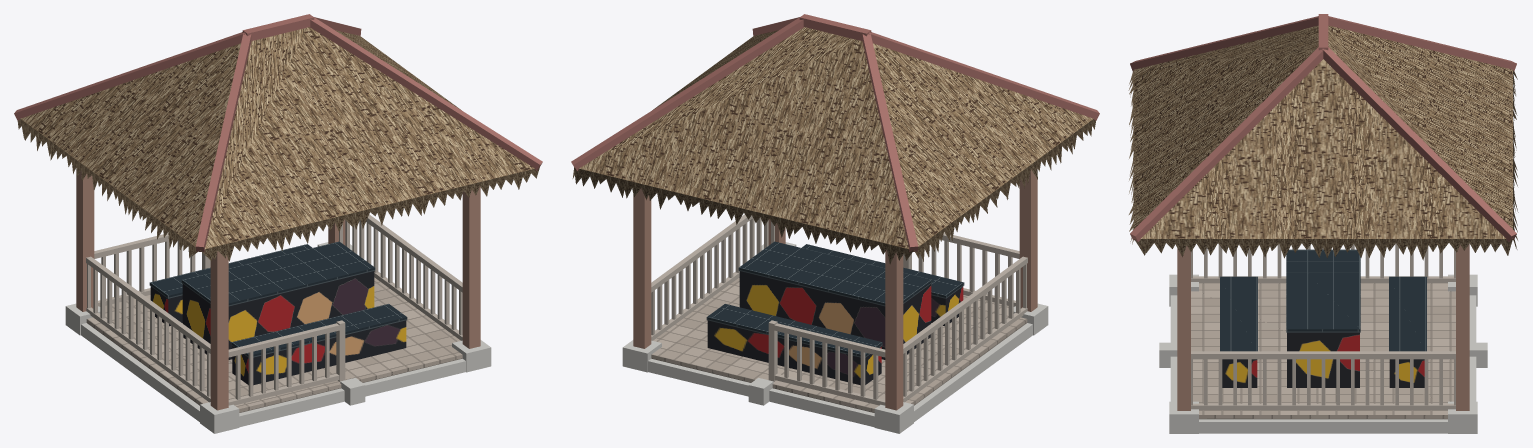
The model's file is pendopo_kecil.glb.
The picture shows the model from 3 angles, left to right: view 1: azimuth 30°, elevation 25°; view 2: azimuth 150°, elevation 25°; view 3: azimuth 270°, elevation 25°; orthographic projection. The views are drawn at different scales.
Visible parts, largest first — view 1: Atap_Rumbia_Limas, Pagar_Kayu_Lapuk, Batu_Mozaik_Meja_Bangku, Lantai_Keramik_Pendopo, Keramik_Atas_Meja_Bangku, Jurai_Seng_Marun_Atap, Tiang_Dan_Kaso_Mahoni, Pondasi_Beton_Pendopo; view 2: Atap_Rumbia_Limas, Pagar_Kayu_Lapuk, Batu_Mozaik_Meja_Bangku, Lantai_Keramik_Pendopo, Keramik_Atas_Meja_Bangku, Jurai_Seng_Marun_Atap, Tiang_Dan_Kaso_Mahoni, Pondasi_Beton_Pendopo; view 3: Atap_Rumbia_Limas, Lantai_Keramik_Pendopo, Keramik_Atas_Meja_Bangku, Jurai_Seng_Marun_Atap, Pagar_Kayu_Lapuk, Pondasi_Beton_Pendopo, Batu_Mozaik_Meja_Bangku, Tiang_Dan_Kaso_Mahoni.
Part boxes in pixels (box(x1,y1,x2,y2)): Atap_Rumbia_Limas: box(17, 27, 539, 261); Pagar_Kayu_Lapuk: box(86, 214, 462, 405); Batu_Mozaik_Meja_Bangku: box(150, 271, 406, 385); Lantai_Keramik_Pendopo: box(86, 277, 462, 412); Keramik_Atas_Meja_Bangku: box(149, 241, 407, 357); Jurai_Seng_Marun_Atap: box(14, 14, 542, 252); Tiang_Dan_Kaso_Mahoni: box(76, 167, 480, 410); Pondasi_Beton_Pendopo: box(65, 242, 491, 433); Atap_Rumbia_Limas: box(572, 27, 1095, 264); Pagar_Kayu_Lapuk: box(651, 214, 1027, 405); Batu_Mozaik_Meja_Bangku: box(707, 271, 963, 385); Lantai_Keramik_Pendopo: box(651, 277, 1027, 412); Keramik_Atas_Meja_Bangku: box(706, 241, 964, 357); Jurai_Seng_Marun_Atap: box(571, 14, 1099, 252); Tiang_Dan_Kaso_Mahoni: box(633, 168, 1037, 410); Pondasi_Beton_Pendopo: box(622, 242, 1048, 433); Atap_Rumbia_Limas: box(1128, 25, 1518, 260); Lantai_Keramik_Pendopo: box(1191, 283, 1455, 419); Keramik_Atas_Meja_Bangku: box(1220, 249, 1426, 351); Jurai_Seng_Marun_Atap: box(1130, 14, 1516, 241); Pagar_Kayu_Lapuk: box(1191, 243, 1455, 410); Pondasi_Beton_Pendopo: box(1159, 274, 1487, 433); Batu_Mozaik_Meja_Bangku: box(1222, 332, 1424, 387); Tiang_Dan_Kaso_Mahoni: box(1177, 244, 1469, 410).
Size of the model in its own units: 3.66 by 3.22 by 3.42.
8 materials, 4 textured.
